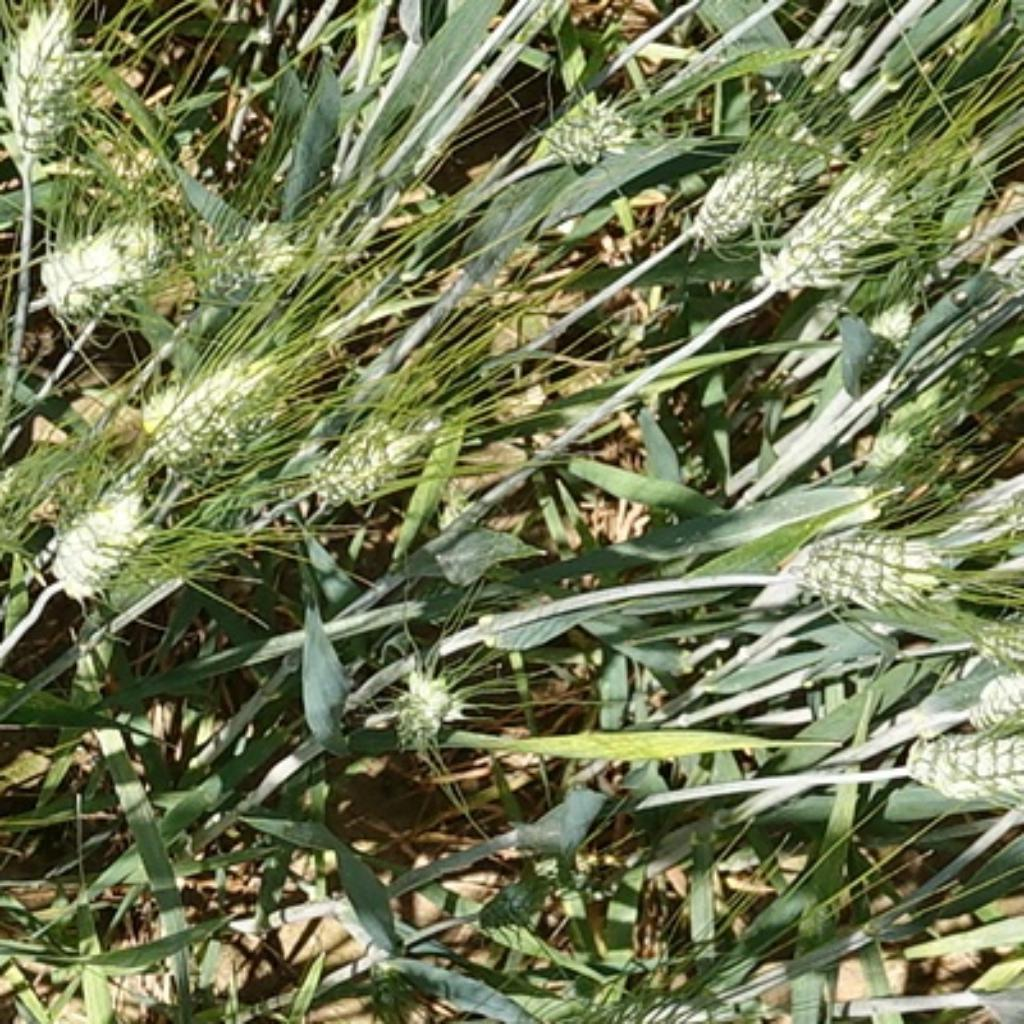0-0: (759, 146, 937, 301), (683, 102, 826, 245), (145, 355, 291, 478), (0, 0, 102, 173), (35, 475, 163, 610), (778, 506, 944, 606), (23, 215, 171, 327), (176, 199, 320, 307), (313, 404, 453, 509), (849, 381, 960, 496), (529, 79, 646, 173), (902, 719, 1024, 803), (391, 661, 465, 744), (939, 665, 1024, 732), (960, 601, 1024, 668), (870, 299, 923, 354), (481, 1021, 660, 1024)
